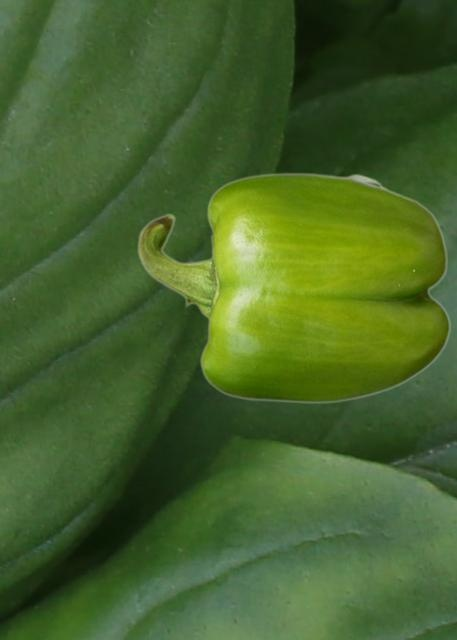bell_pepper: (137, 172, 450, 403)
